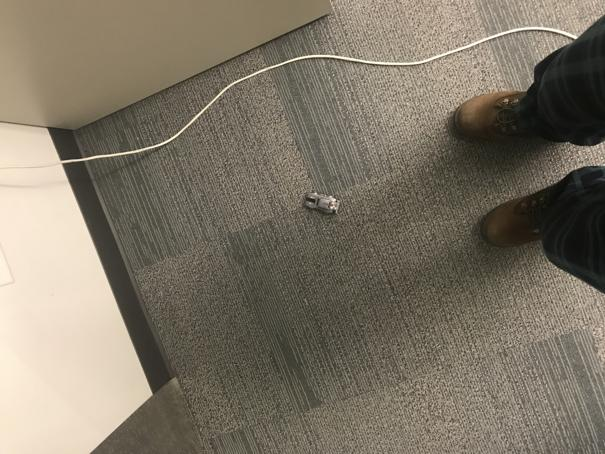Charger: (303, 190, 341, 217)
